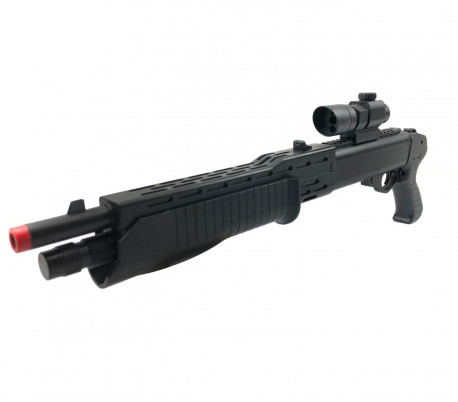Arma Falsa: (10, 92, 428, 265)
